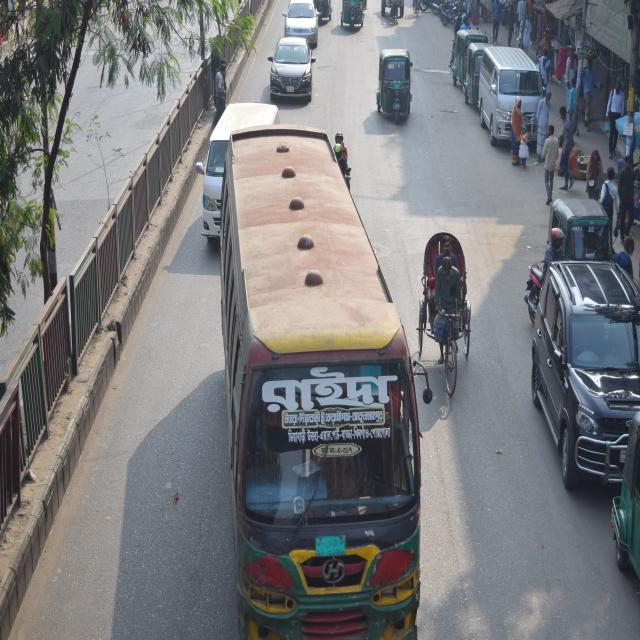bus: (215, 129, 437, 640)
car: (526, 252, 640, 484), (277, 36, 315, 116), (281, 2, 323, 53)
microbus: (207, 90, 282, 244), (470, 55, 564, 154)
